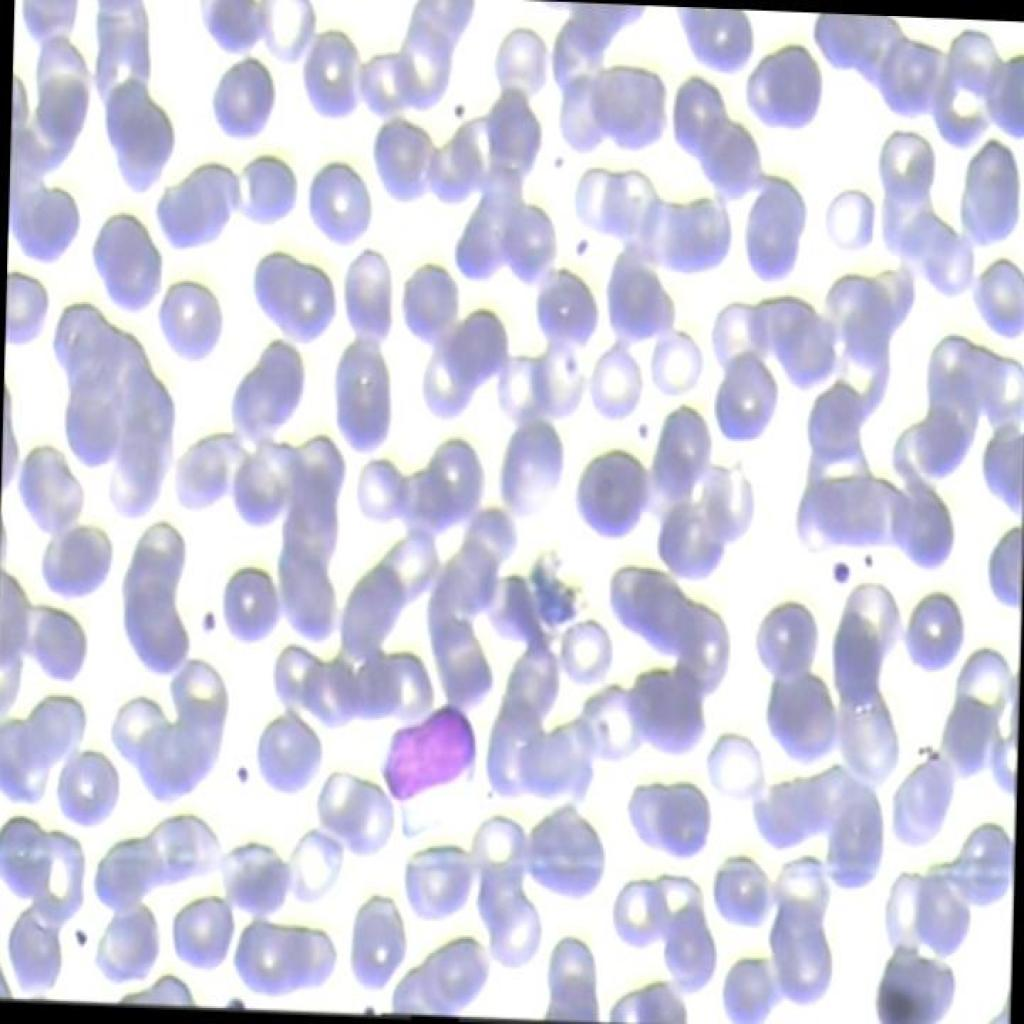Limfosit: (372, 695, 484, 829)
Platelet: (566, 217, 602, 265), (445, 89, 484, 126), (539, 139, 576, 176), (223, 755, 259, 793), (191, 601, 226, 638), (846, 537, 878, 576), (626, 402, 656, 442), (828, 549, 852, 594), (71, 918, 94, 958), (552, 345, 577, 377)
